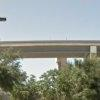Bridge: (2, 34, 97, 64)
